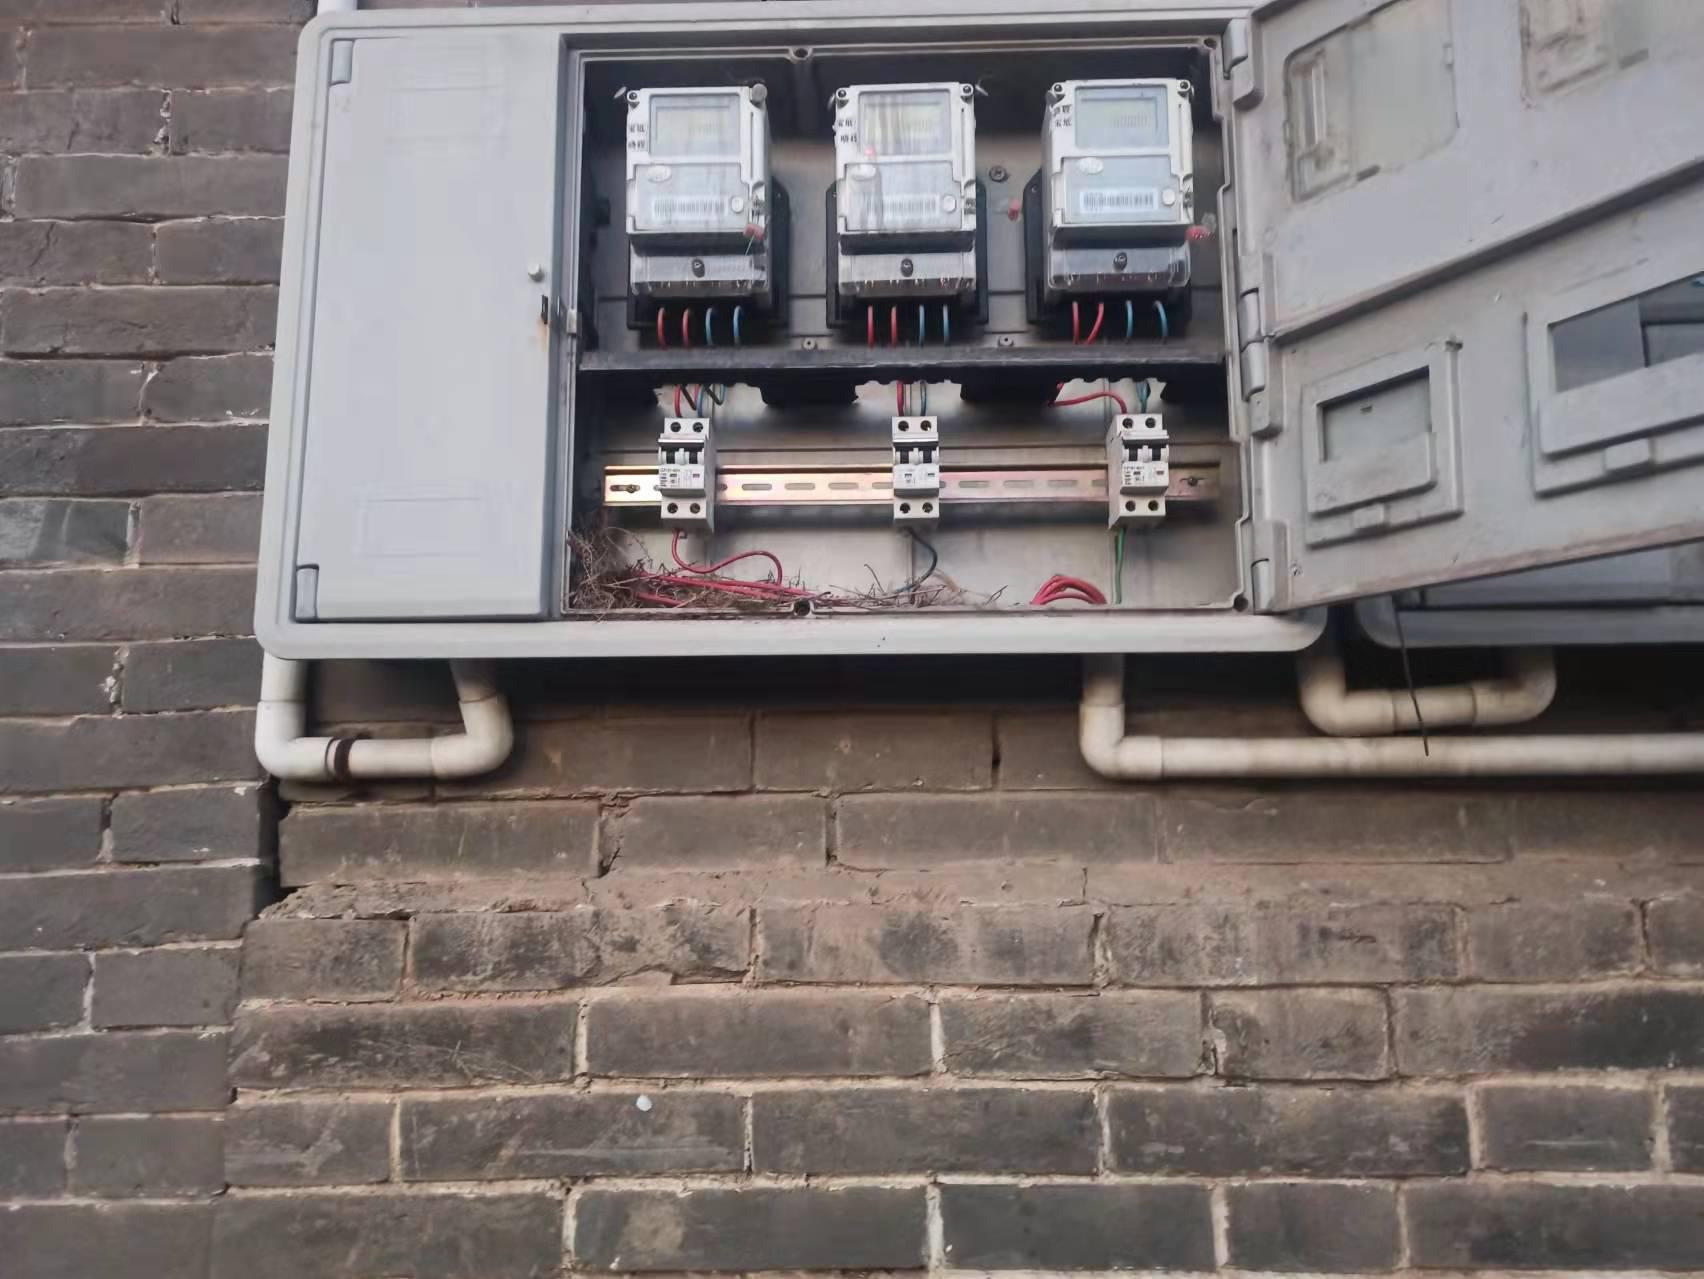digital: (620, 82, 765, 236), (833, 82, 975, 232), (1051, 78, 1192, 227)
